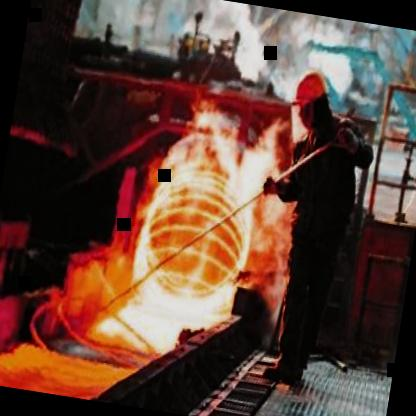helmet: (286, 62, 334, 127)
